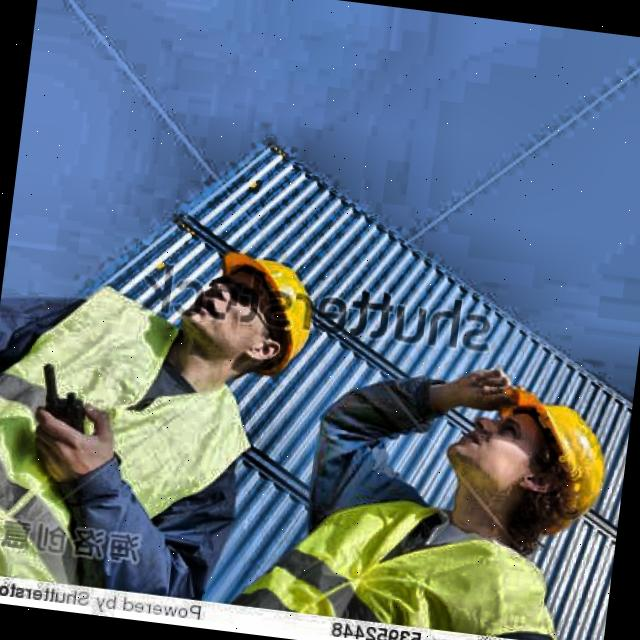helmet: (428, 378, 616, 540), (164, 244, 329, 382)
